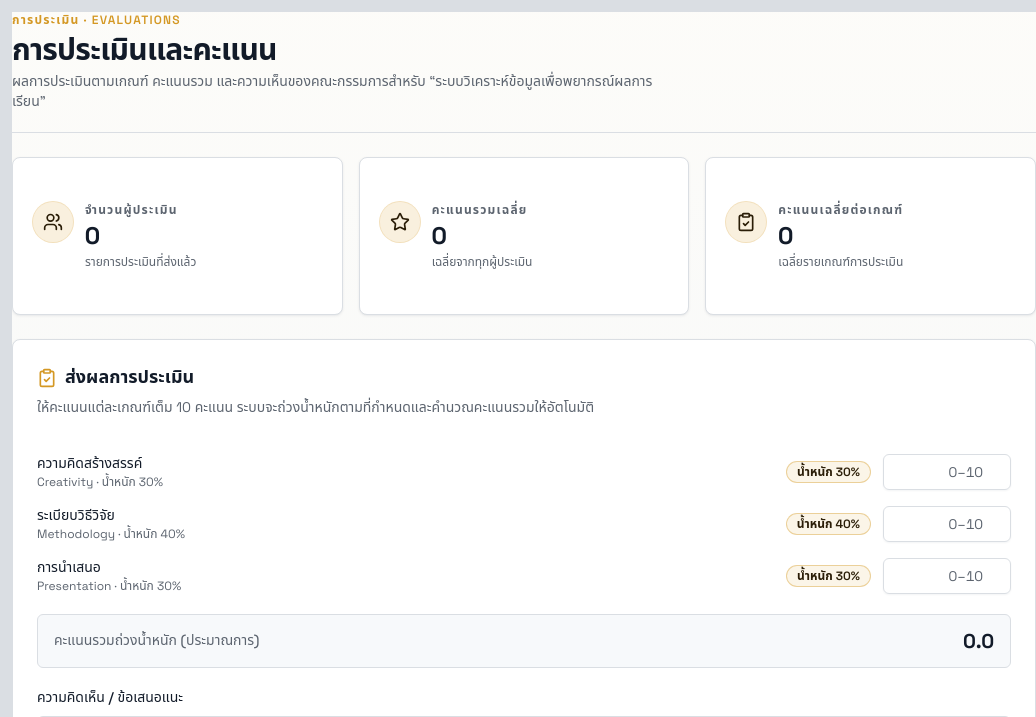
Test: EvaluationsPage › shows the scoring form to an advisor and previews the weighted total
The image size is (1036, 717).
In the number field with test id "evaluations.score_input.creativity": (947, 472) [883, 454, 1011, 490], type "10"
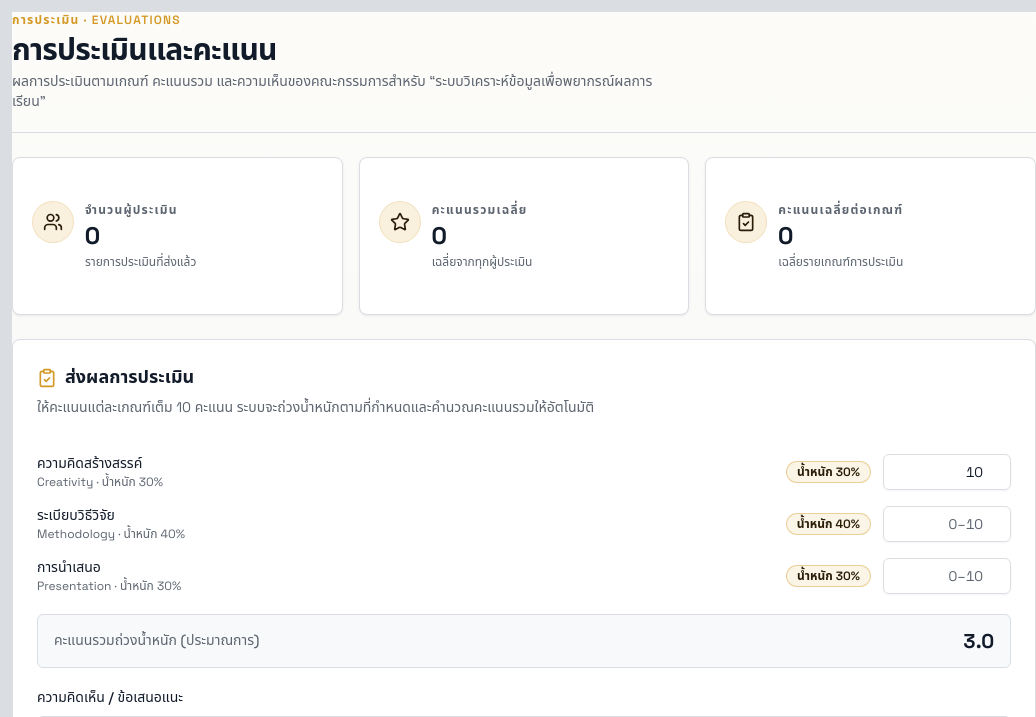
In the number field with test id "evaluations.score_input.methodology": (947, 524) [883, 506, 1011, 542], type "10"
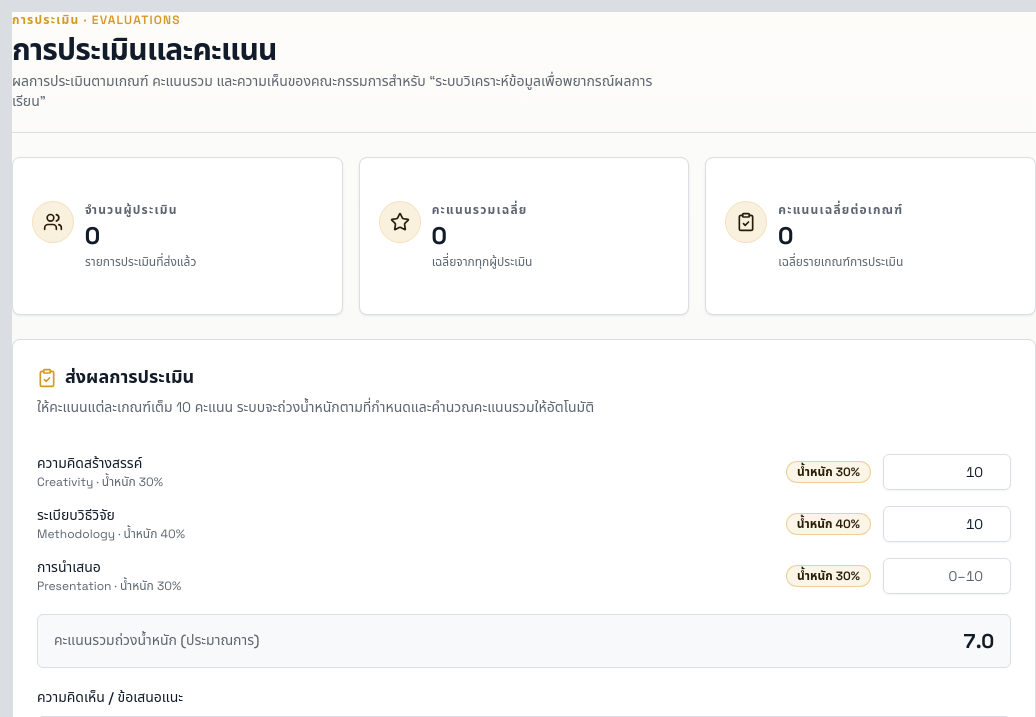
In the number field with test id "evaluations.score_input.presentation": (947, 576) [883, 558, 1011, 594], type "10"
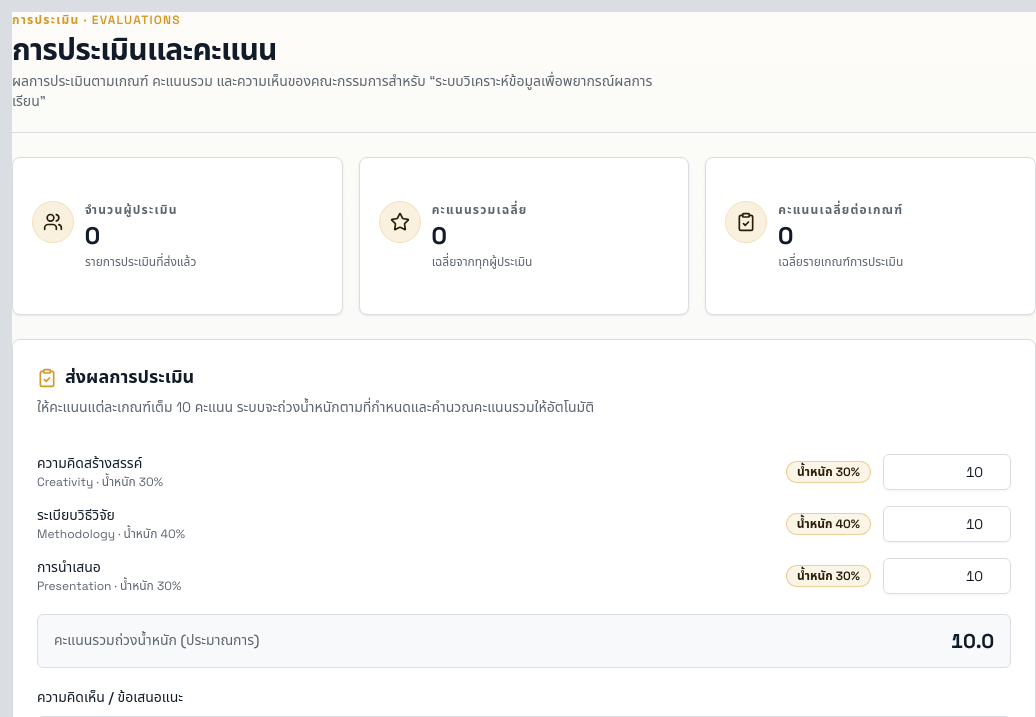
Now the text with test id "evaluations.preview_total" reads "10.0", box [951, 628, 994, 654]
